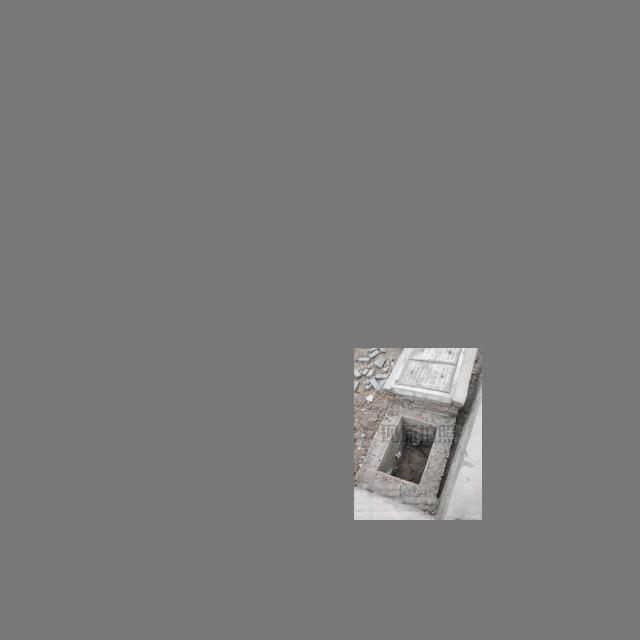good: (392, 348, 465, 397)
lose: (376, 415, 437, 484)
